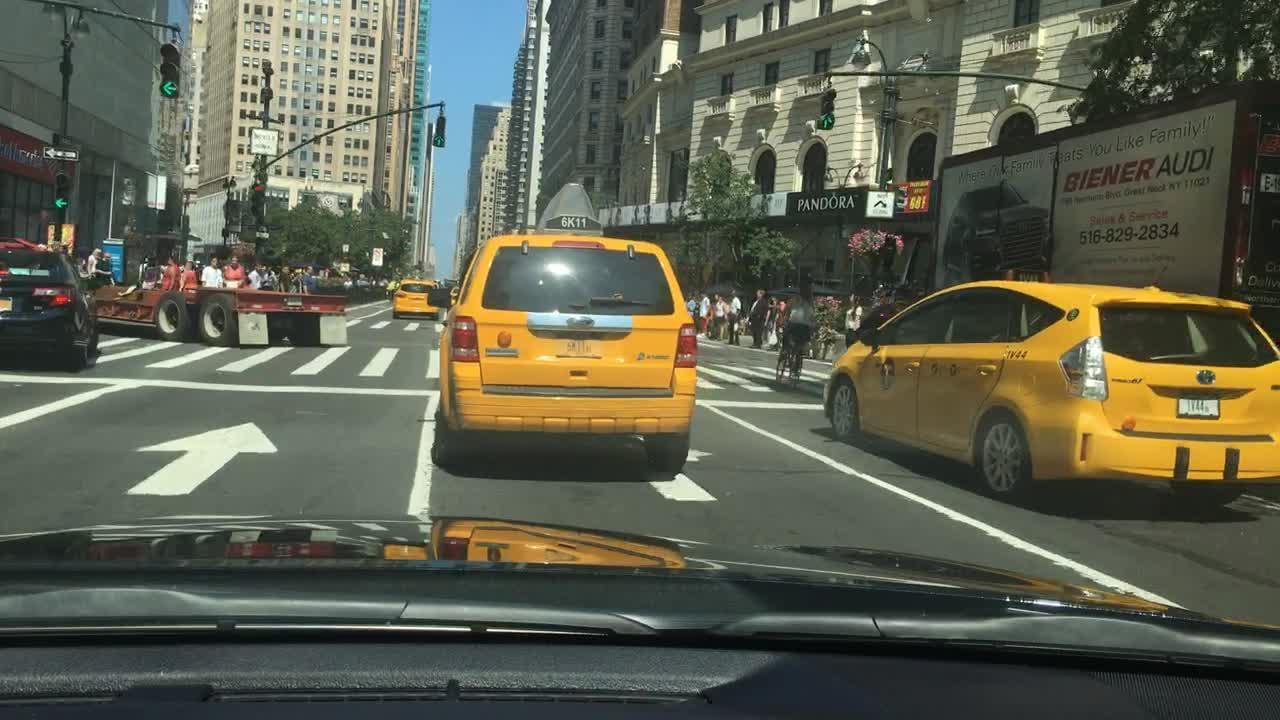Toyota: (1191, 362, 1225, 391)
ford: (558, 306, 607, 339)
